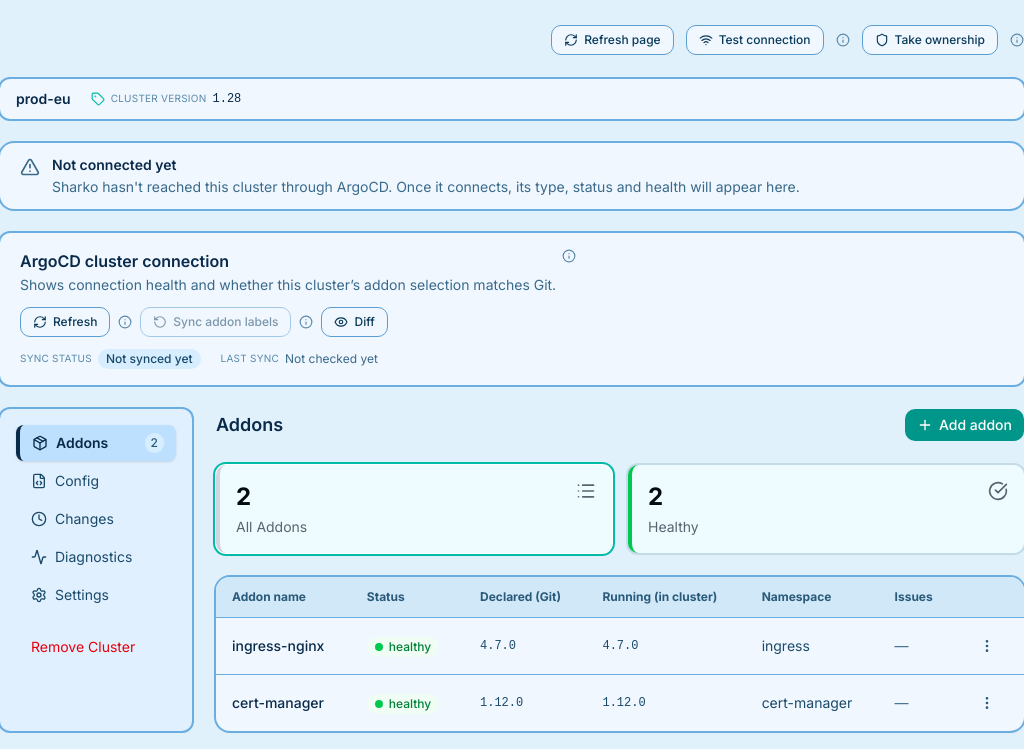
it: ClusterDetail - V3-AM1 (one list + discoverable remove + "Add addon" LW-22) › clicking Remove on an enabled row stages a pending-remove (top strip shows it + Undo) + Apply footer appears
The width and height of the screenshot is (1024, 749).
Expected: the link "ingress-nginx" is shown, [232,636,324,656]
W10 (V3 RW1.4): open the ingress-nginx row's kebab and click Remove.
Click the button named "actions for ingress-nginx": (987, 646) [971,630,1003,662]
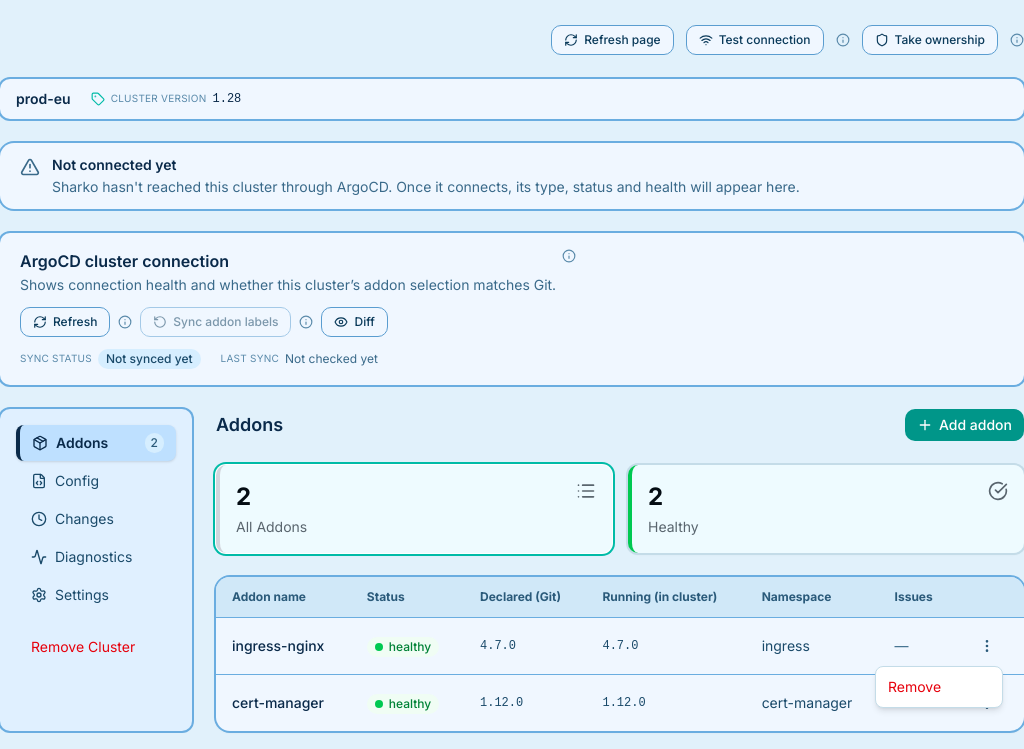
Click the menu item "Remove": (915, 686) [888,678,941,695]
(page scrolled)
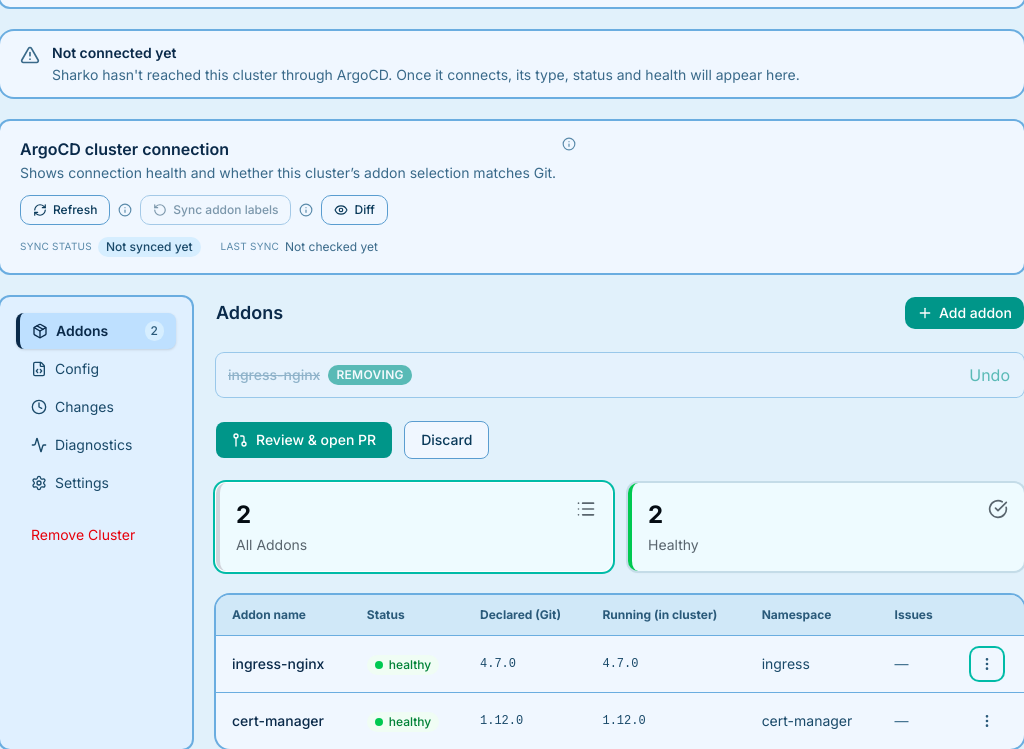
Expected: the text "removing" is shown, [328,365,412,385]
Expected: the button "Undo" is shown, [967,361,1012,389]
Expected: the button "Review & open PR" is shown, [216,422,392,458]
